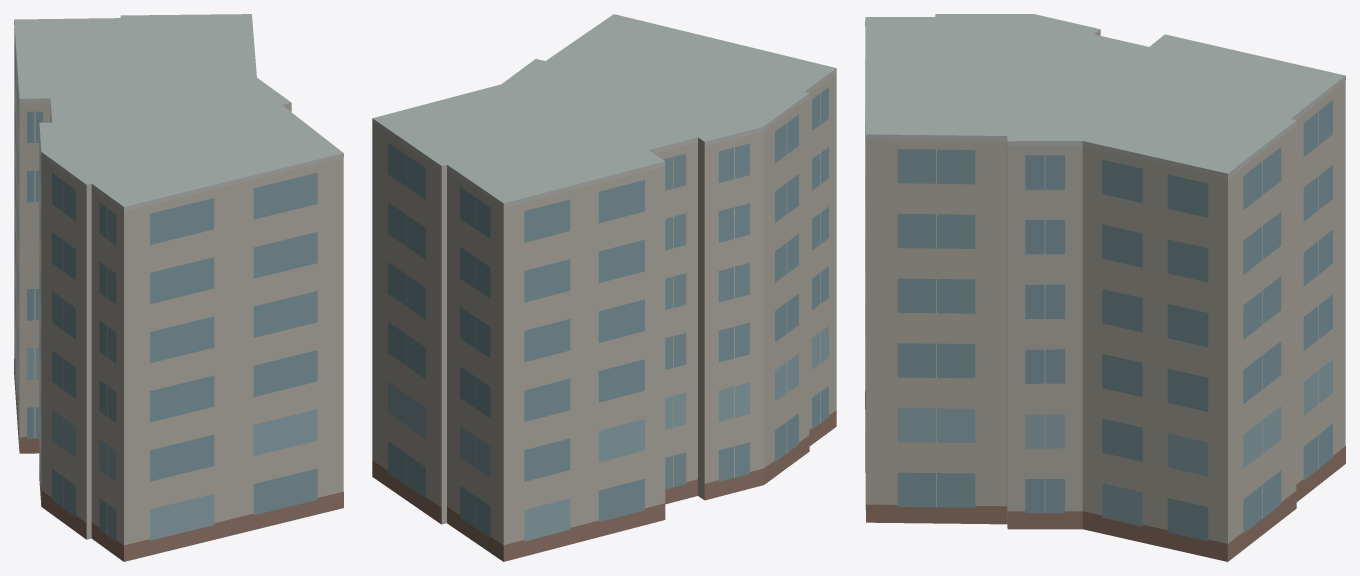
The model's file is survey-upis-32987877.glb.
3 renders of one model, left to right at view 1: azimuth 30°, elevation 25°; view 2: azimuth 150°, elevation 25°; view 3: azimuth 270°, elevation 25°, orthographic. The views are drawn at different scales.
Parts seen in each view (by area): view 1: survey-upis-32987877.tmp; view 2: survey-upis-32987877.tmp; view 3: survey-upis-32987877.tmp.
Part boxes in pixels (left/top/right/bottom): survey-upis-32987877.tmp: left=14, top=14, right=343, bottom=561; survey-upis-32987877.tmp: left=372, top=14, right=836, bottom=561; survey-upis-32987877.tmp: left=865, top=14, right=1345, bottom=561.
Bounding box in the file's own units: 16.33 × 18.5 × 20.76.
